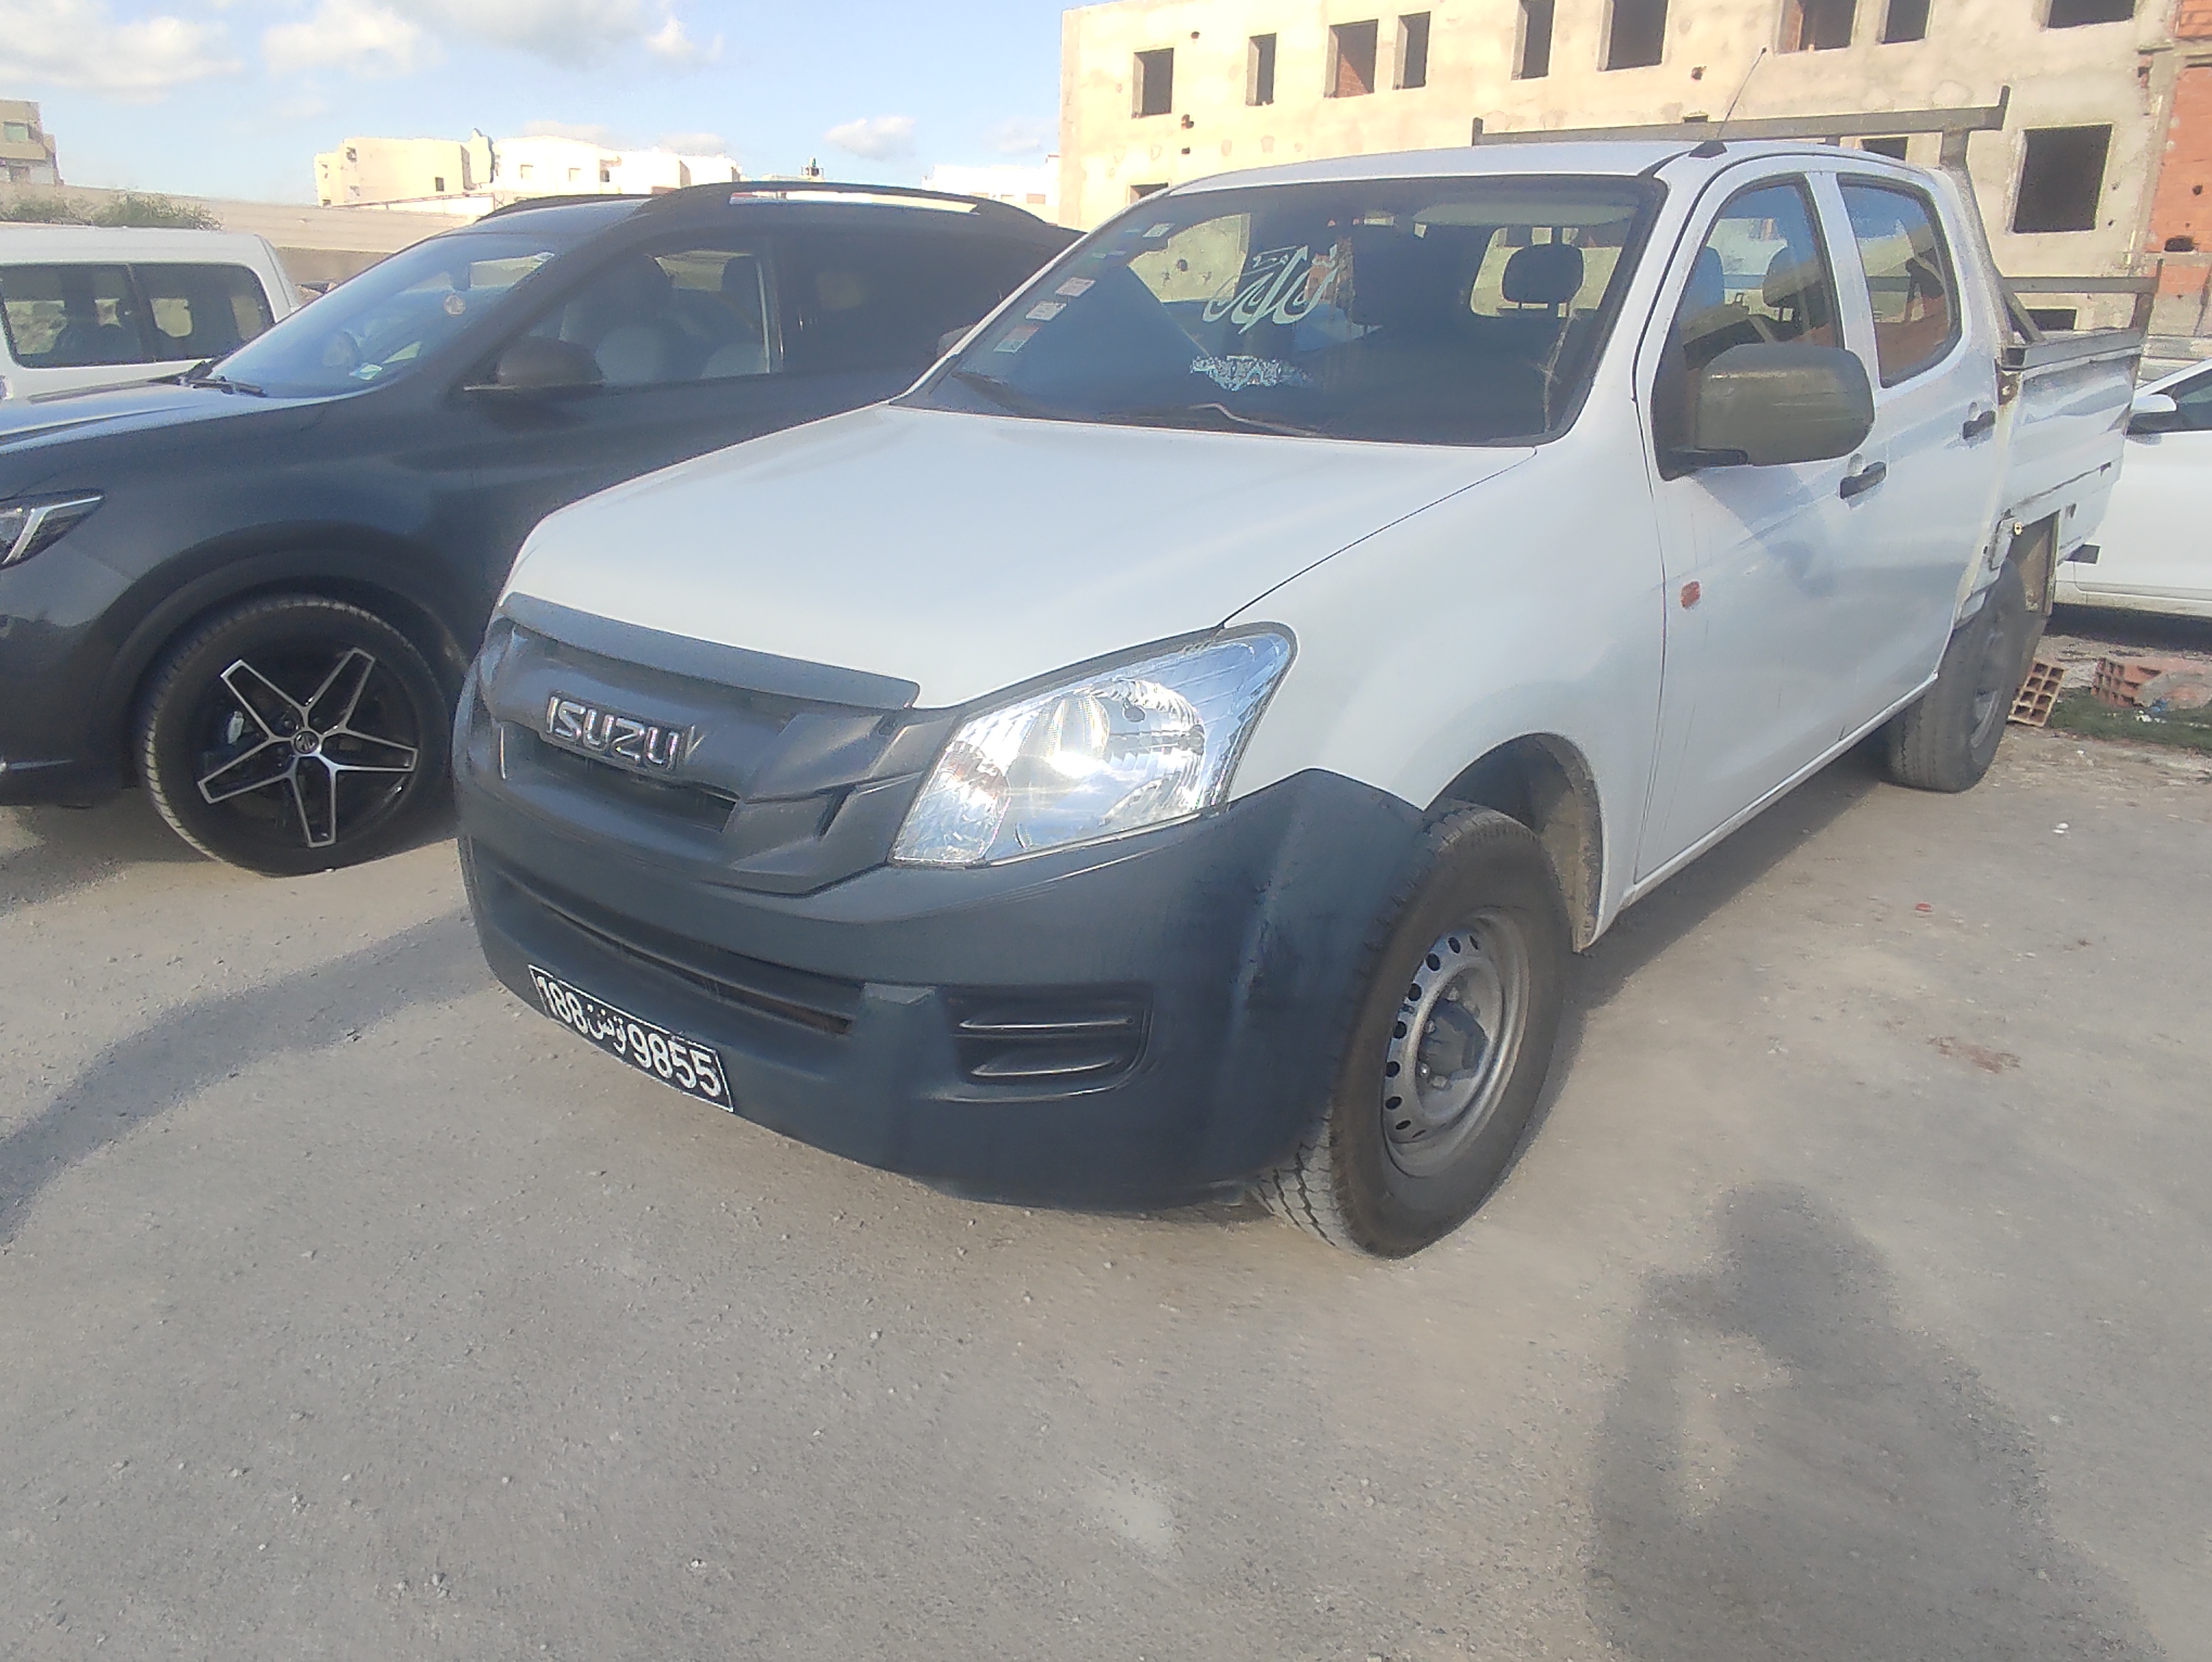audi: (12, 147, 1243, 871)
bmw: (484, 127, 2153, 1274)
citroen: (14, 175, 323, 436), (1997, 281, 2212, 651)
